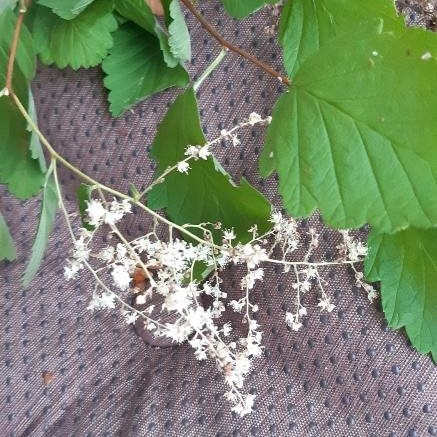obstacle: (196, 12, 428, 321), (6, 0, 207, 122)
